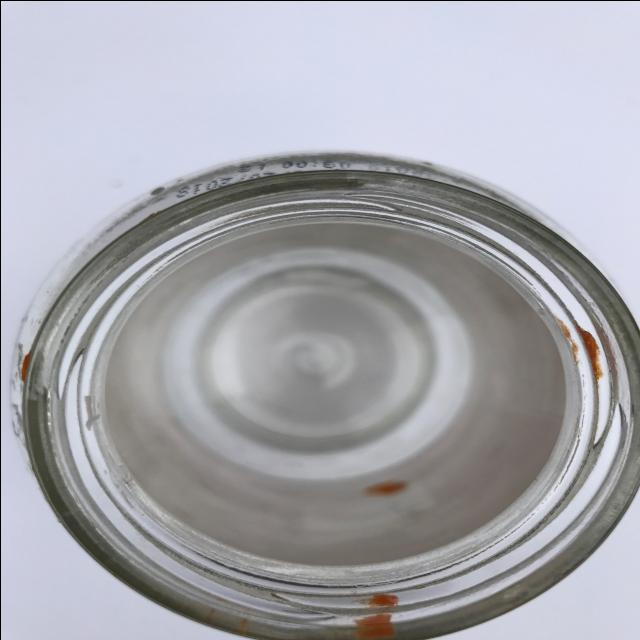glass: (2, 158, 640, 640)
